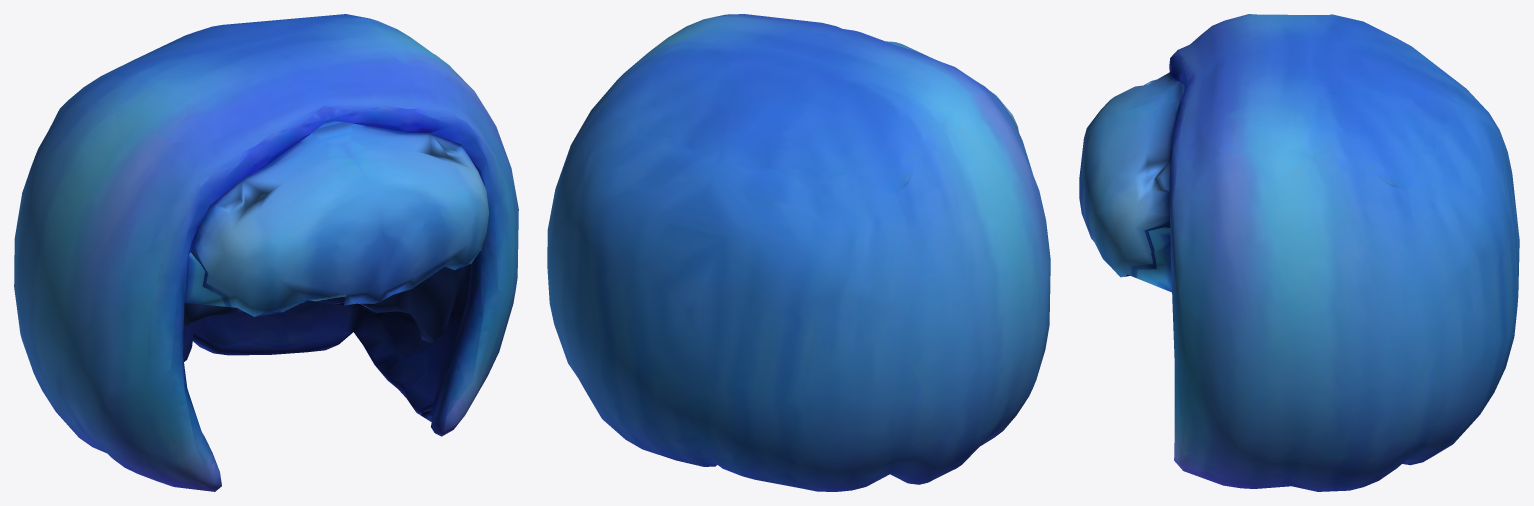
File: hairstyle_073.glb
3 renders of one model, left to right at view 1: azimuth 30°, elevation 25°; view 2: azimuth 150°, elevation 25°; view 3: azimuth 270°, elevation 25°, orthographic. The views are drawn at different scales.
Parts seen in each view (by area): view 1: geometry_0_073; view 2: geometry_0_073; view 3: geometry_0_073.
Boxes of the visible parts, left/top/right/bottom form: geometry_0_073: left=14, top=14, right=518, bottom=491; geometry_0_073: left=547, top=14, right=1050, bottom=491; geometry_0_073: left=1079, top=14, right=1519, bottom=491.
Bounding box in the file's own units: 1.49 × 1.25 × 1.34.
Materials: 1 (1 with a texture image).
